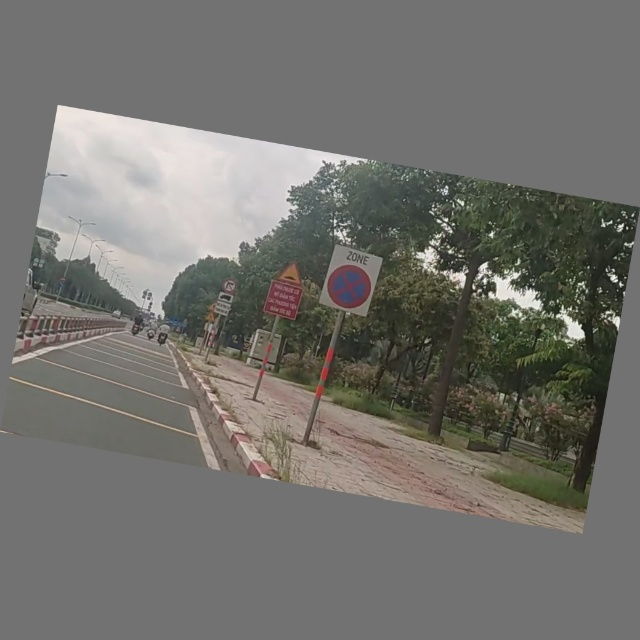P.123b: (220, 278, 239, 296)
P.130: (319, 244, 382, 318)
S.505a*Xe tai: (213, 291, 234, 318)
W.221b: (275, 261, 306, 287)
